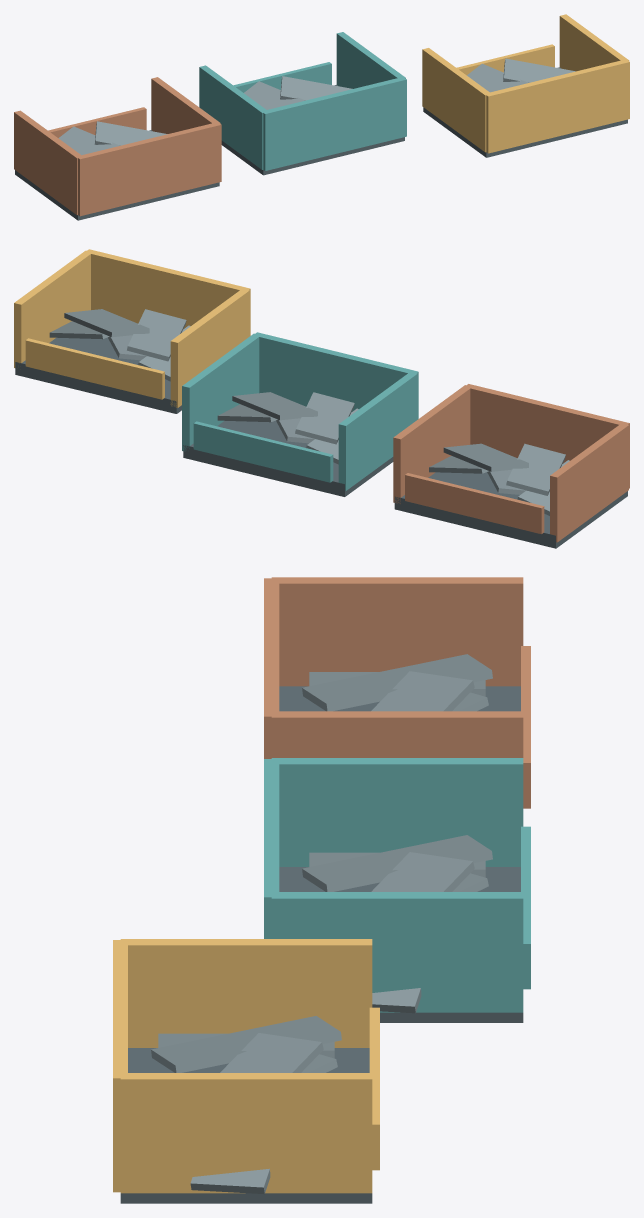
Rendered from ScrapReceivingYard.glb.
3 views of the same model, one above another, from view 1: azimuth 30°, elevation 25°; view 2: azimuth 150°, elevation 25°; view 3: azimuth 270°, elevation 25° (orthographic). The views are drawn at different scales.
Parts seen in each view (by area): view 1: ScrapReceivingYard_SkipFloor; view 2: ScrapReceivingYard_SkipFloor; view 3: ScrapReceivingYard_SkipFloor.
Part boxes in pixels (x1,y1,x2,y2): ScrapReceivingYard_SkipFloor: (14, 14, 629, 220); ScrapReceivingYard_SkipFloor: (14, 249, 629, 548); ScrapReceivingYard_SkipFloor: (113, 577, 530, 1203).
Size of the model in its own units: 48.28 by 5.5 by 16.6.
